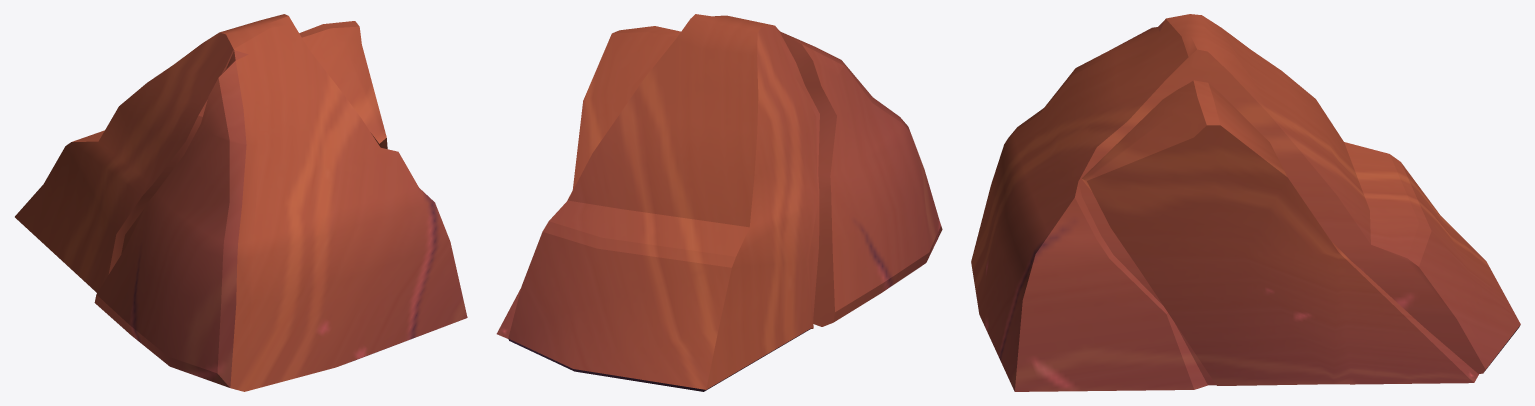
Rendered from SM_Stone_03.fbx.
3 views of the same model, side by side, from view 1: azimuth 30°, elevation 25°; view 2: azimuth 150°, elevation 25°; view 3: azimuth 270°, elevation 25° (orthographic). The views are drawn at different scales.
Visible parts, largest first — view 1: SM_Stone_03; view 2: SM_Stone_03; view 3: SM_Stone_03.
Boxes of the visible parts, x1,y1,x2,y2 form: SM_Stone_03: (15,14,467,391); SM_Stone_03: (496,14,942,391); SM_Stone_03: (971,14,1520,391).
Bounding box in the file's own units: 694 × 641 × 1078.
